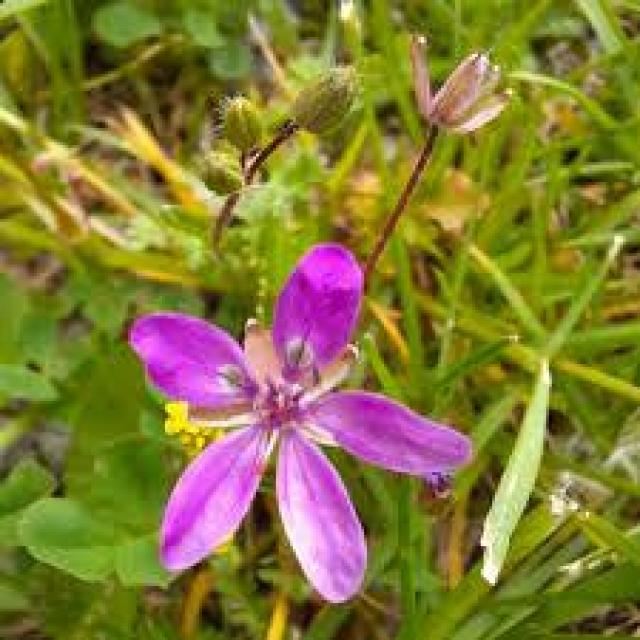organic waste: (98, 248, 474, 592), (391, 33, 519, 141)
